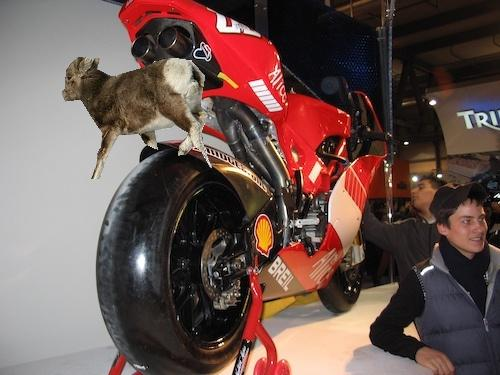tampered: (63, 58, 212, 179)
